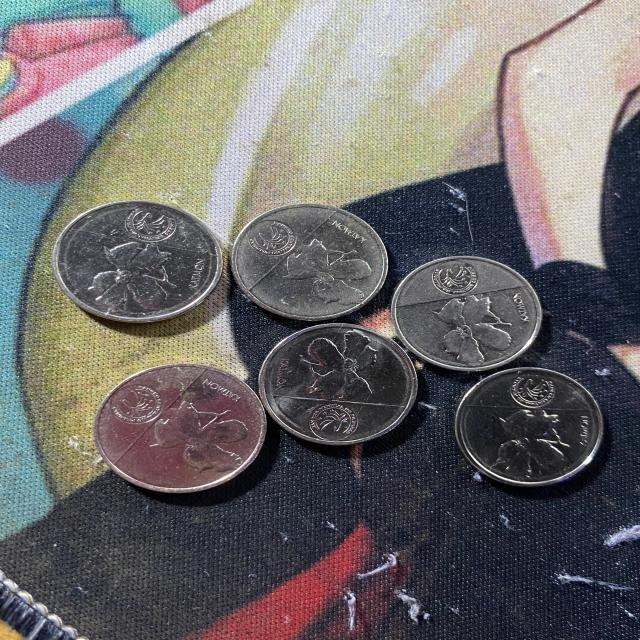25Cent_New_Back: (138, 391, 260, 481), (478, 402, 586, 482), (80, 238, 182, 316), (289, 330, 395, 404), (277, 236, 381, 308), (426, 292, 520, 366)
